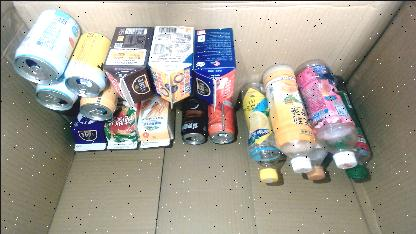Can: (12, 8, 78, 84), (62, 30, 110, 96), (34, 76, 78, 110), (78, 86, 118, 119), (206, 96, 234, 142), (180, 96, 206, 144)
Plastic Bottle: (294, 58, 358, 168), (262, 63, 314, 173), (330, 74, 370, 180), (240, 82, 280, 182), (304, 144, 327, 180)
